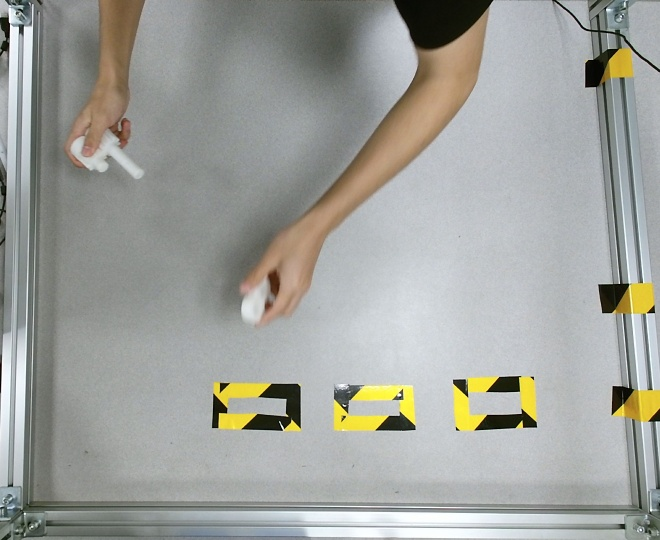stage_3: (70, 125, 145, 182)
